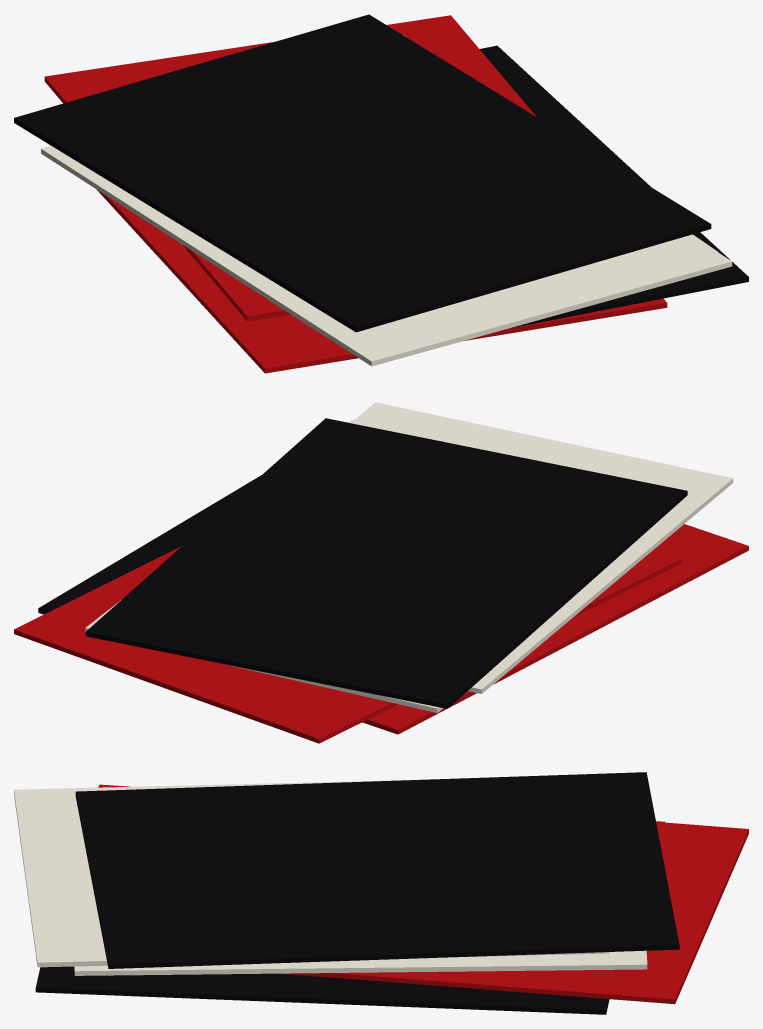
Rendered from Item_OR_Cards_15.glb.
3 views of the same model, one above another, from view 1: azimuth 30°, elevation 25°; view 2: azimuth 150°, elevation 25°; view 3: azimuth 270°, elevation 25° (orthographic). The views are drawn at different scales.
Parts seen in each view (by area): view 1: Item_OR_Cards_15; view 2: Item_OR_Cards_15; view 3: Item_OR_Cards_15.
Part boxes in pixels (x1,y1,x2,y2): Item_OR_Cards_15: [14, 14, 748, 373]; Item_OR_Cards_15: [14, 402, 748, 743]; Item_OR_Cards_15: [14, 772, 748, 1014].
Bounding box in the file's own units: 0.0841 × 0.0058 × 0.1129.
